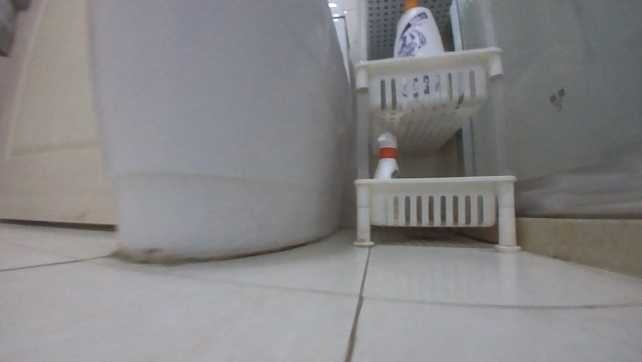toilet_part: (80, 0, 358, 261)
